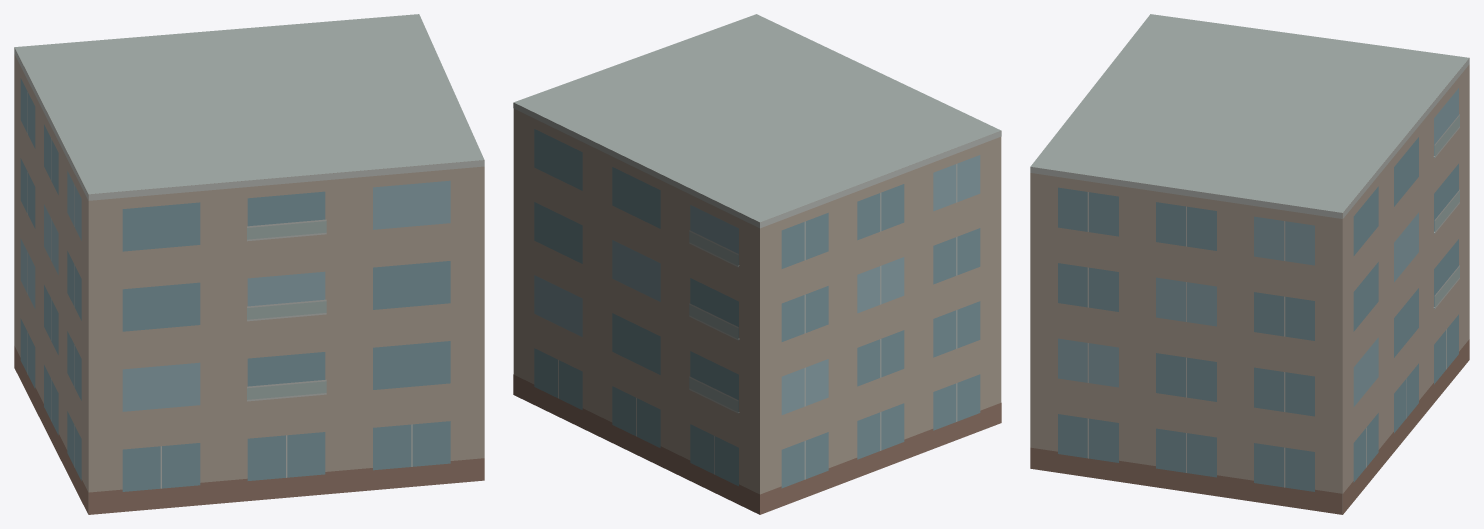
The model's file is survey-upis-32805971.glb.
3 views of the same model, side by side, from view 1: azimuth 30°, elevation 25°; view 2: azimuth 150°, elevation 25°; view 3: azimuth 270°, elevation 25° (orthographic). The views are drawn at different scales.
Visible parts, largest first — view 1: survey-upis-32805971.tmp; view 2: survey-upis-32805971.tmp; view 3: survey-upis-32805971.tmp.
Boxes of the visible parts, x1,y1,x2,y2 form: survey-upis-32805971.tmp: [14, 14, 484, 514]; survey-upis-32805971.tmp: [513, 14, 1001, 514]; survey-upis-32805971.tmp: [1030, 14, 1469, 514].
Bounding box in the file's own units: 16.97 × 12 × 15.83.
